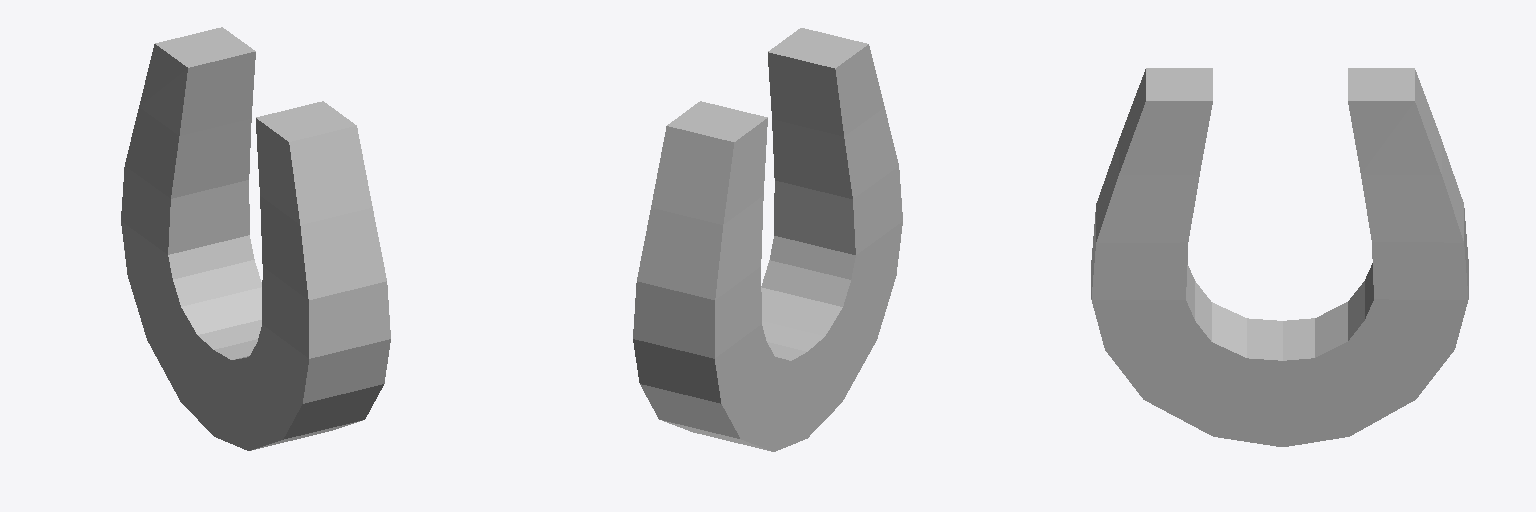
Rendered from magnet.obj.
3 renders of one model, left to right at view 1: azimuth 30°, elevation 25°; view 2: azimuth 150°, elevation 25°; view 3: azimuth 270°, elevation 25°, orthographic.
Visible parts, largest first — view 1: pCube1_Mesh; view 2: pCube1_Mesh; view 3: pCube1_Mesh.
Boxes of the visible parts, x1=… form: pCube1_Mesh: x1=121, y1=27, x2=390, y2=450; pCube1_Mesh: x1=633, y1=28, x2=902, y2=451; pCube1_Mesh: x1=1091, y1=68, x2=1468, y2=446.
Bounding box in the file's own units: 0.0443 × 0.1774 × 0.1767.